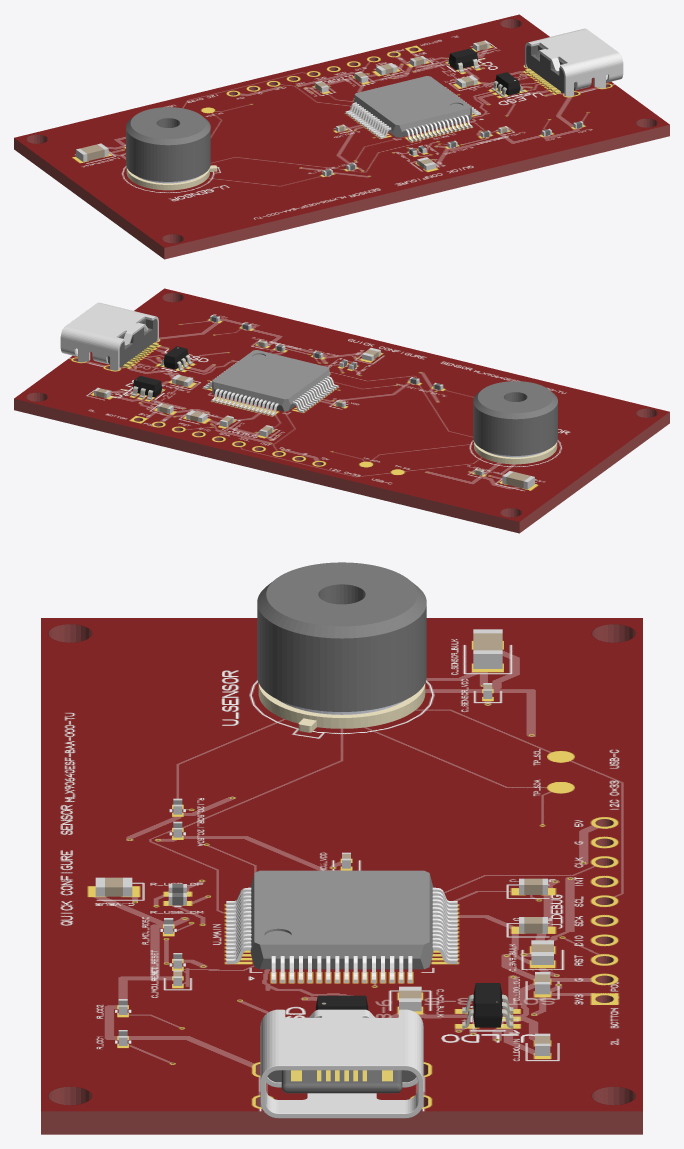
3 renders of one model, top to bottom at view 1: azimuth 30°, elevation 25°; view 2: azimuth 150°, elevation 25°; view 3: azimuth 270°, elevation 25°, orthographic. The views are drawn at different scales.
Visible parts, largest first — view 1: Box0, U_SENSOR, U_MAIN, J_USB, U_LDO, U_ESD, C_SENSOR_BULK; view 2: Box0, U_SENSOR, U_MAIN, J_USB, U_LDO, U_ESD, C_SENSOR_BULK; view 3: Box0, U_SENSOR, U_MAIN, J_USB, U_LDO, C_SENSOR_BULK.
Part boxes in pixels (x1,y1,x2,y2): Box0: [14, 14, 669, 259]; U_SENSOR: [126, 107, 217, 190]; U_MAIN: [345, 76, 480, 142]; J_USB: [525, 28, 623, 96]; U_LDO: [447, 48, 479, 72]; U_ESD: [491, 72, 524, 97]; C_SENSOR_BULK: [76, 143, 108, 162]; Box0: [14, 288, 669, 533]; U_SENSOR: [473, 381, 557, 464]; U_MAIN: [203, 350, 338, 416]; J_USB: [60, 302, 158, 370]; U_LDO: [131, 375, 163, 400]; U_ESD: [159, 346, 192, 371]; C_SENSOR_BULK: [502, 471, 534, 489]; Box0: [41, 618, 642, 1134]; U_SENSOR: [257, 562, 426, 732]; U_MAIN: [226, 870, 457, 982]; J_USB: [260, 1009, 423, 1118]; U_LDO: [462, 983, 513, 1028]; C_SENSOR_BULK: [473, 629, 502, 668].
Bounding box in the file's own units: 65.04 × 12.5 × 33.
Materials: 20 (2 with a texture image).
